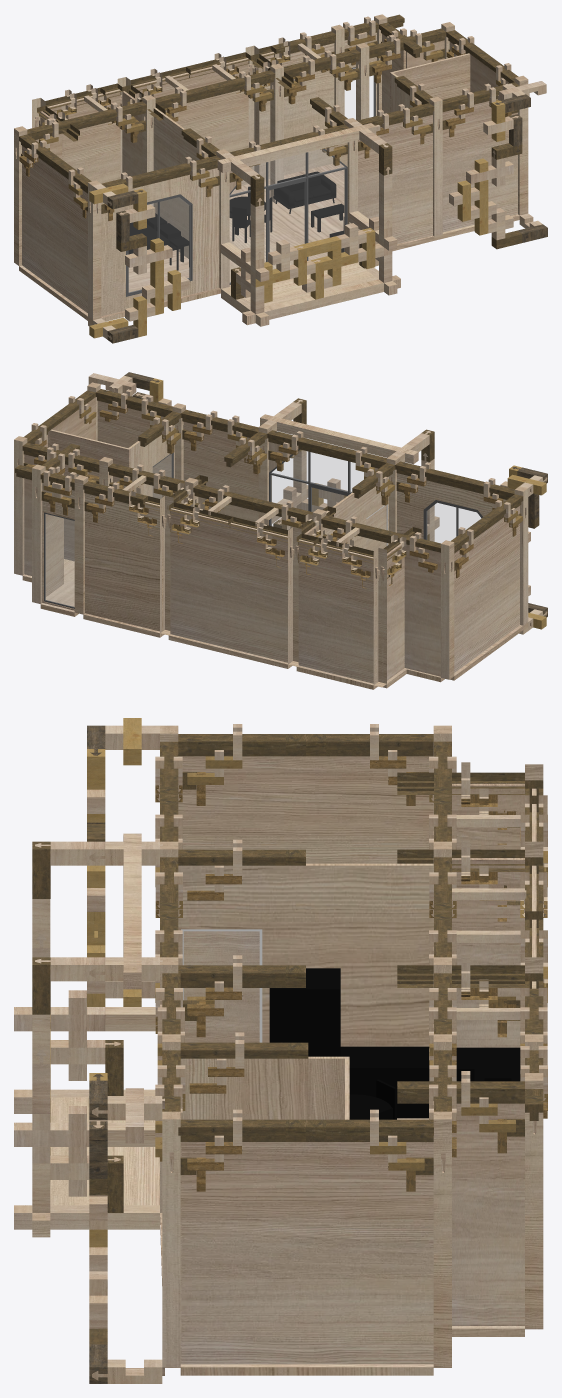
File: studio-a.glb
The picture shows the model from 3 angles, top to bottom: view 1: azimuth 30°, elevation 25°; view 2: azimuth 150°, elevation 25°; view 3: azimuth 270°, elevation 25°; orthographic projection. The views are drawn at different scales.
Bounding box in the file's own units: 10.6 × 3.2 × 5.85.
Materials: 12 (7 with a texture image).
